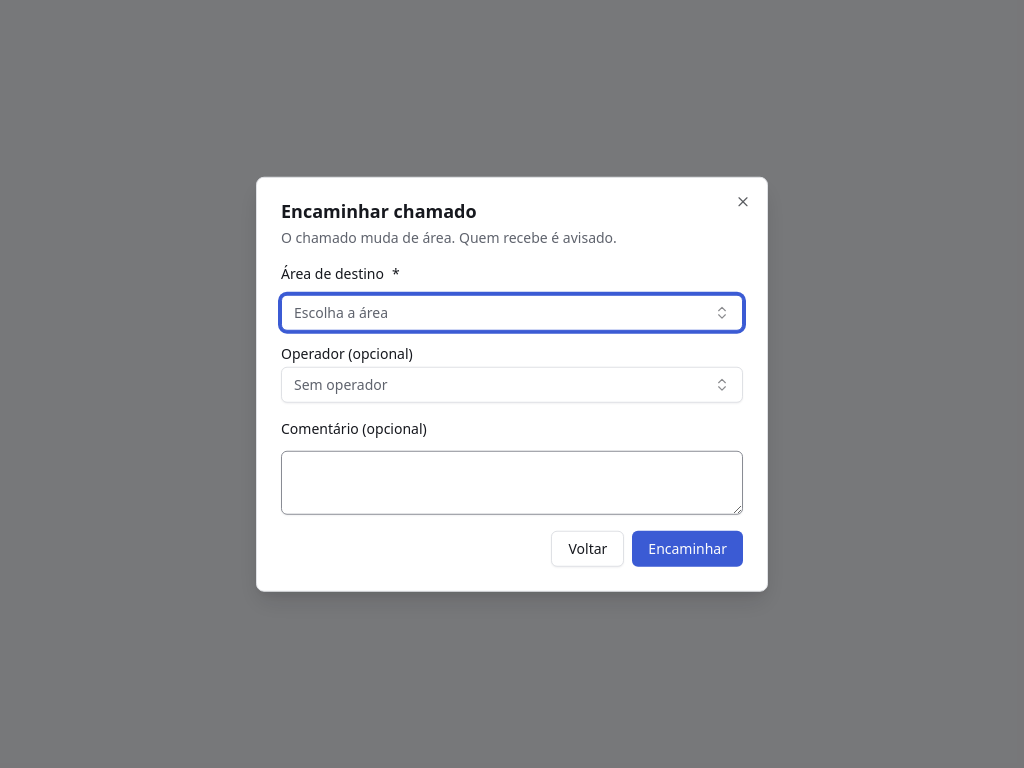
Encaminhar › 400 com detalhes aparece no campo
The width and height of the screenshot is (1024, 768).
Click the dropdown named "Área de destino": (341, 312) [281,295,743,331]
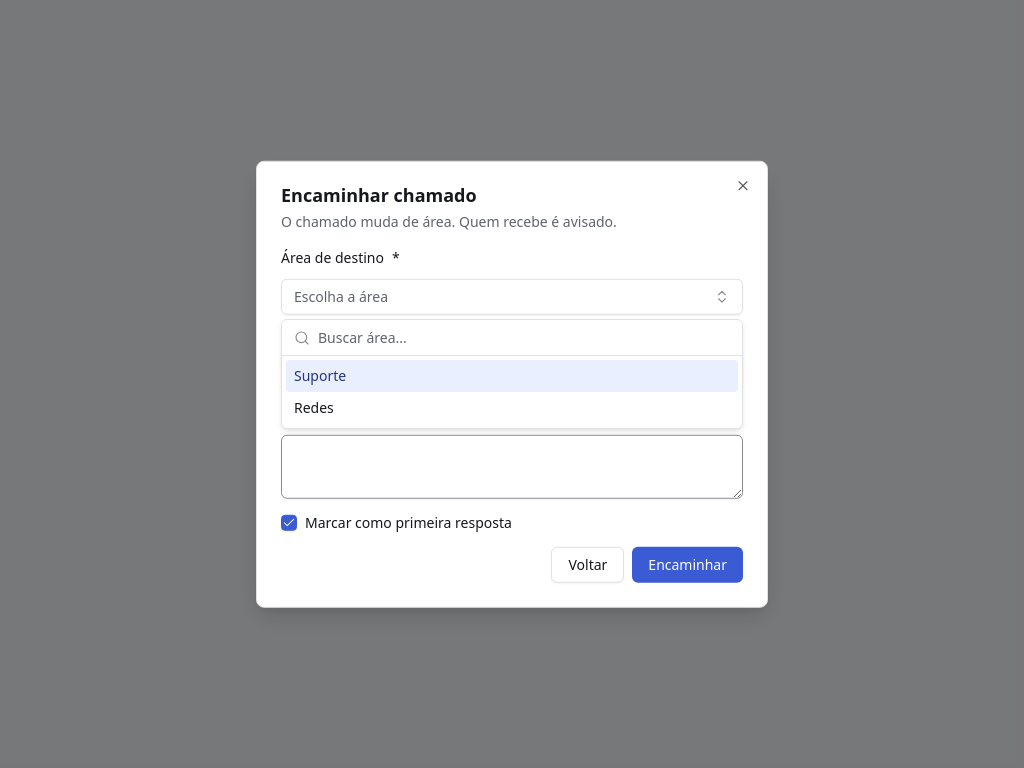
Click the option "Redes": (314, 408) [294,398,334,417]
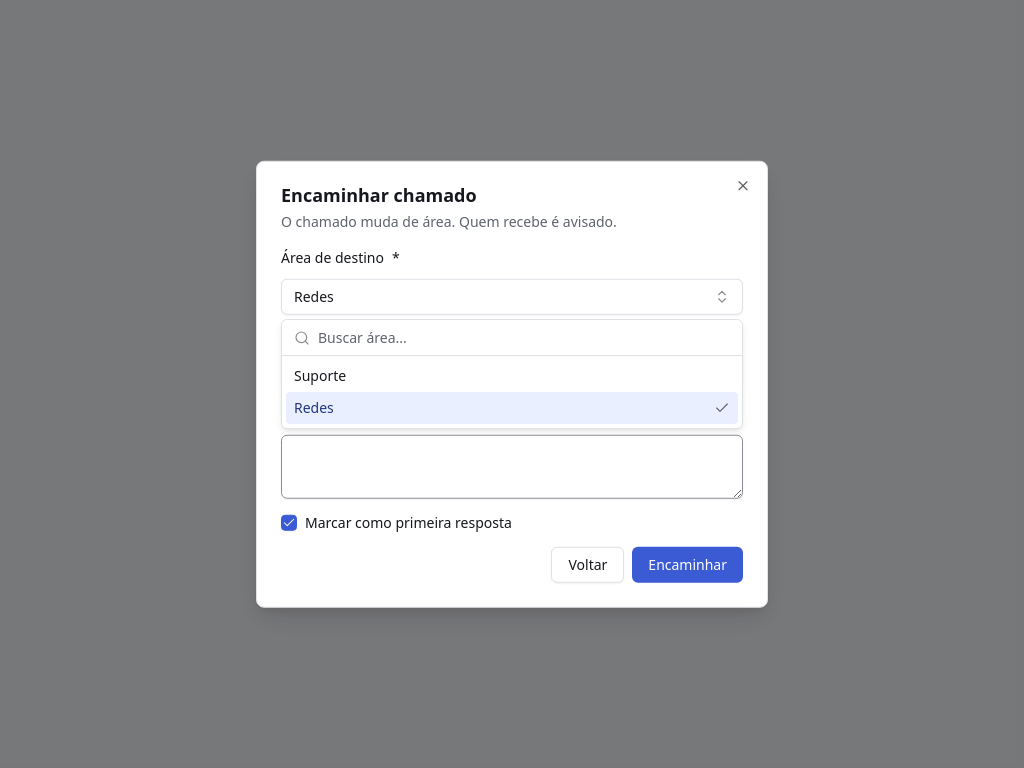
Click the button "Encaminhar": (688, 564) [632,546,743,582]
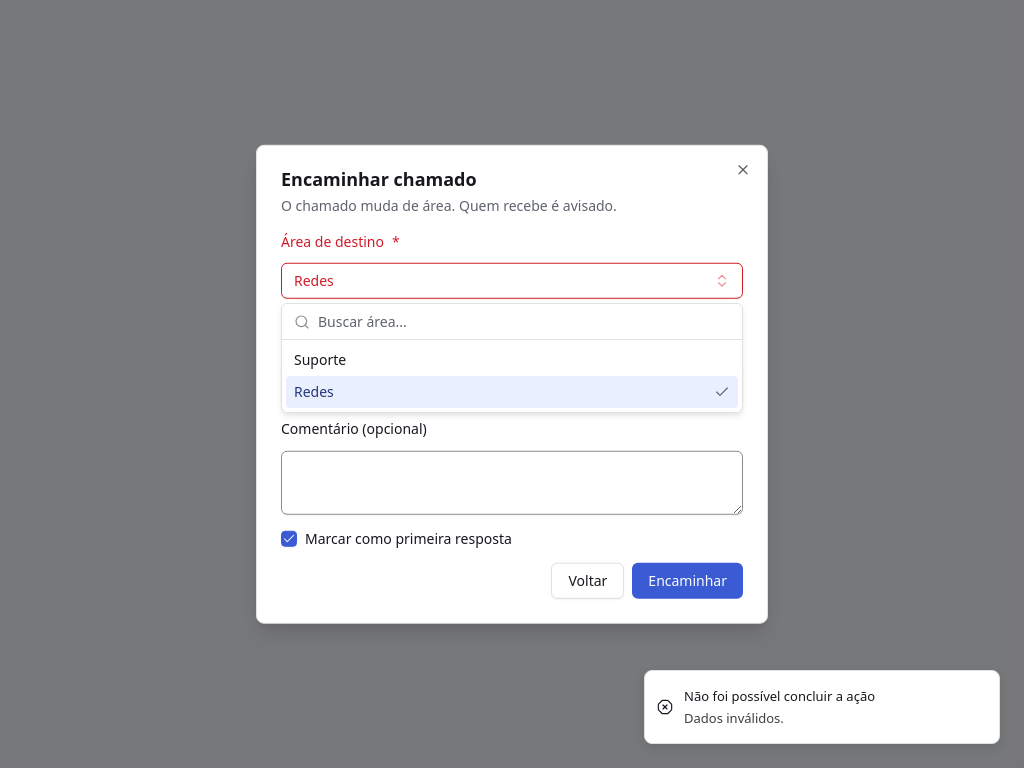
expect the text "Área sem equipe." is shown: met, box [281,311,395,330]
